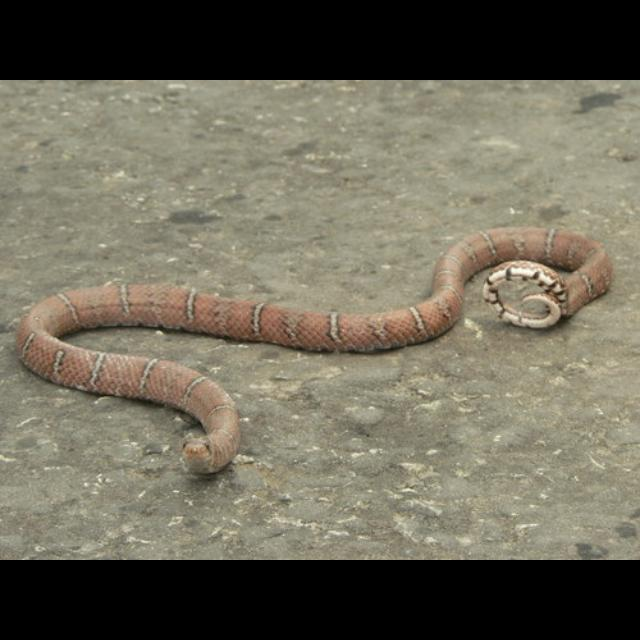snake: (16, 214, 626, 491)
